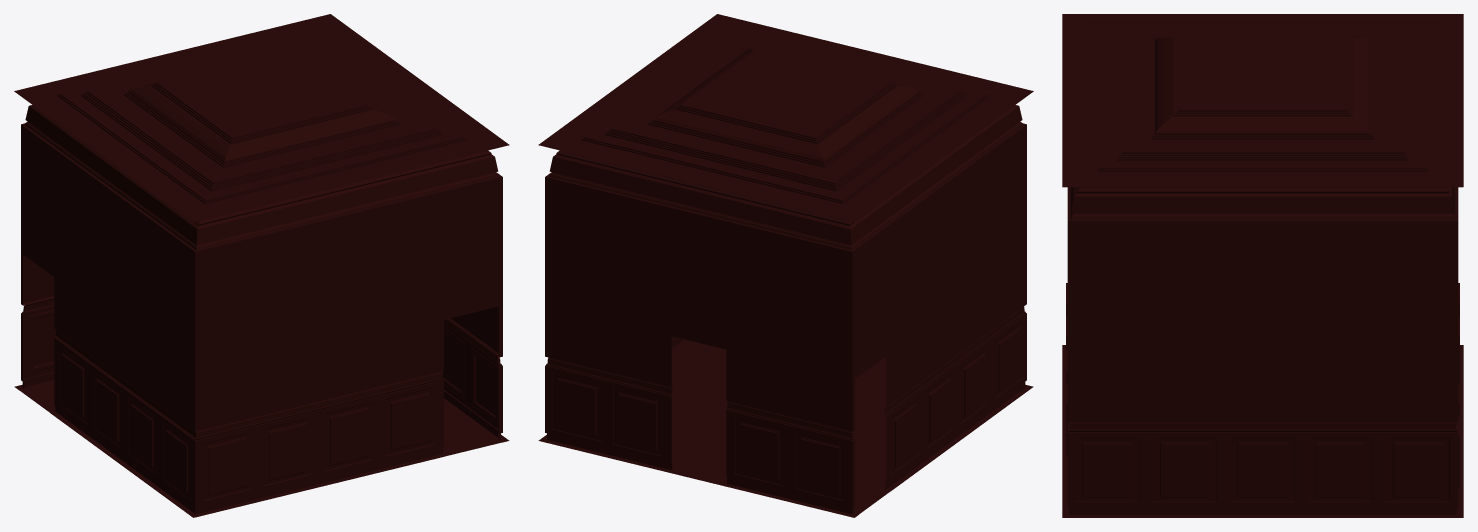
The model's file is 2door_9.FBX.
The picture shows the model from 3 angles, left to right: view 1: azimuth 30°, elevation 25°; view 2: azimuth 150°, elevation 25°; view 3: azimuth 270°, elevation 25°; orthographic projection. The views are drawn at different scales.
Parts seen in each view (by area): view 1: wall, ceiling, floor; view 2: wall, ceiling, floor; view 3: wall, ceiling, floor.
Part boxes in pixels (<box>): wall: <box>14,14,509,517</box>; ceiling: <box>14,14,509,221</box>; floor: <box>14,380,508,517</box>; wall: <box>538,14,1033,517</box>; ceiling: <box>538,14,1033,221</box>; floor: <box>539,339,1033,517</box>; wall: <box>1062,14,1463,514</box>; ceiling: <box>1062,23,1462,187</box>; floor: <box>1062,345,1463,517</box>.
Size of the model in its own units: 199 by 195 by 192.
